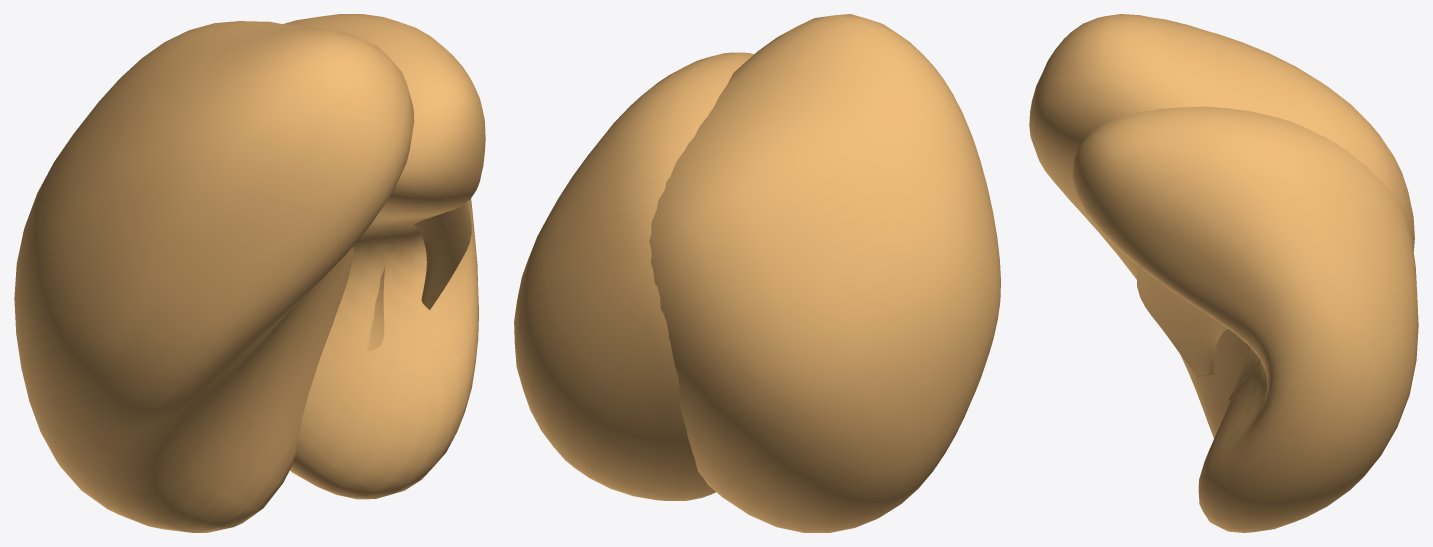
File: hair-010-be0e0e6f.glb
The picture shows the model from 3 angles, left to right: view 1: azimuth 30°, elevation 25°; view 2: azimuth 150°, elevation 25°; view 3: azimuth 270°, elevation 25°; orthographic projection. The views are drawn at different scales.
Parts seen in each view (by area): view 1: Geo_Female_White_Hair.011; view 2: Geo_Female_White_Hair.011; view 3: Geo_Female_White_Hair.011.
Part boxes in pixels (<box>): Geo_Female_White_Hair.011: <box>14,14,485,532</box>; Geo_Female_White_Hair.011: <box>514,14,1000,532</box>; Geo_Female_White_Hair.011: <box>1029,14,1418,532</box>.
Bounding box in the file's own units: 2.49 × 2.67 × 2.11.
